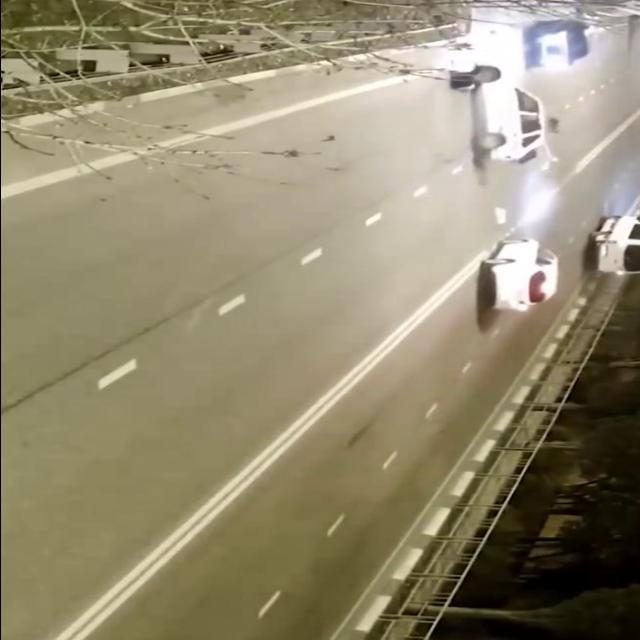accident: (439, 55, 565, 181)
